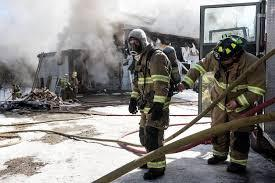smoke: (0, 1, 134, 85), (134, 1, 245, 41)
